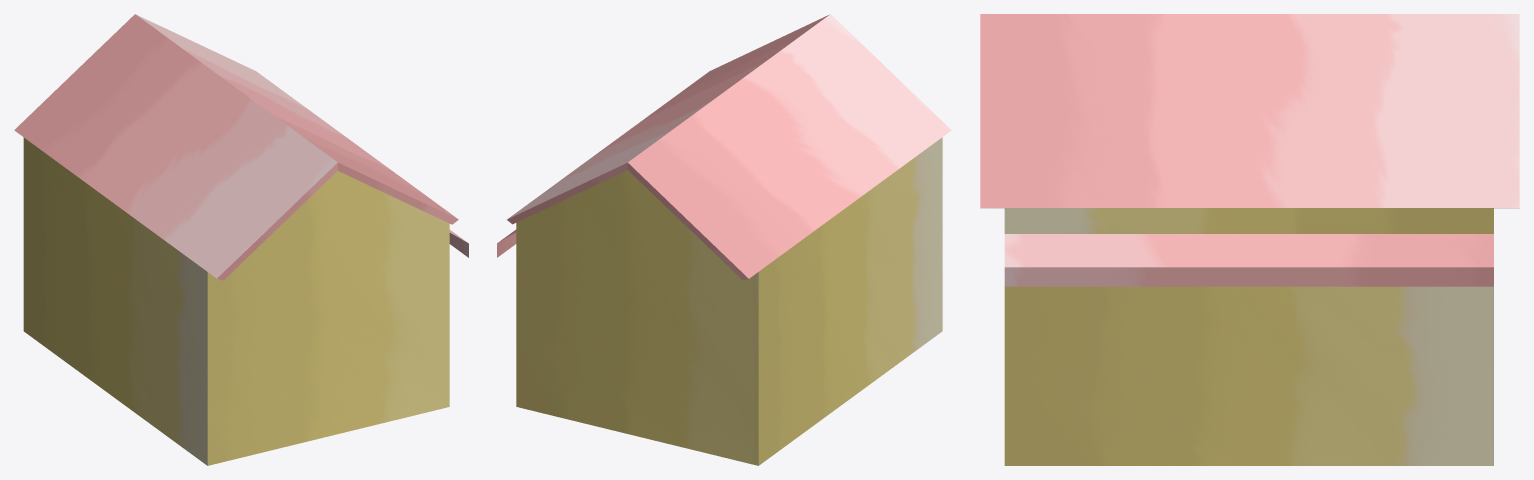
File: coiffeur.fbx
3 renders of one model, left to right at view 1: azimuth 30°, elevation 25°; view 2: azimuth 150°, elevation 25°; view 3: azimuth 270°, elevation 25°, orthographic. The views are drawn at different scales.
Visible parts, largest first — view 1: coiffeur; view 2: coiffeur; view 3: coiffeur.
Boxes of the visible parts, x1,y1,x2,y2 form: coiffeur: (14, 14, 468, 465); coiffeur: (497, 14, 951, 465); coiffeur: (980, 14, 1519, 465).
Bounding box in the file's own units: 268 × 275 × 360.
